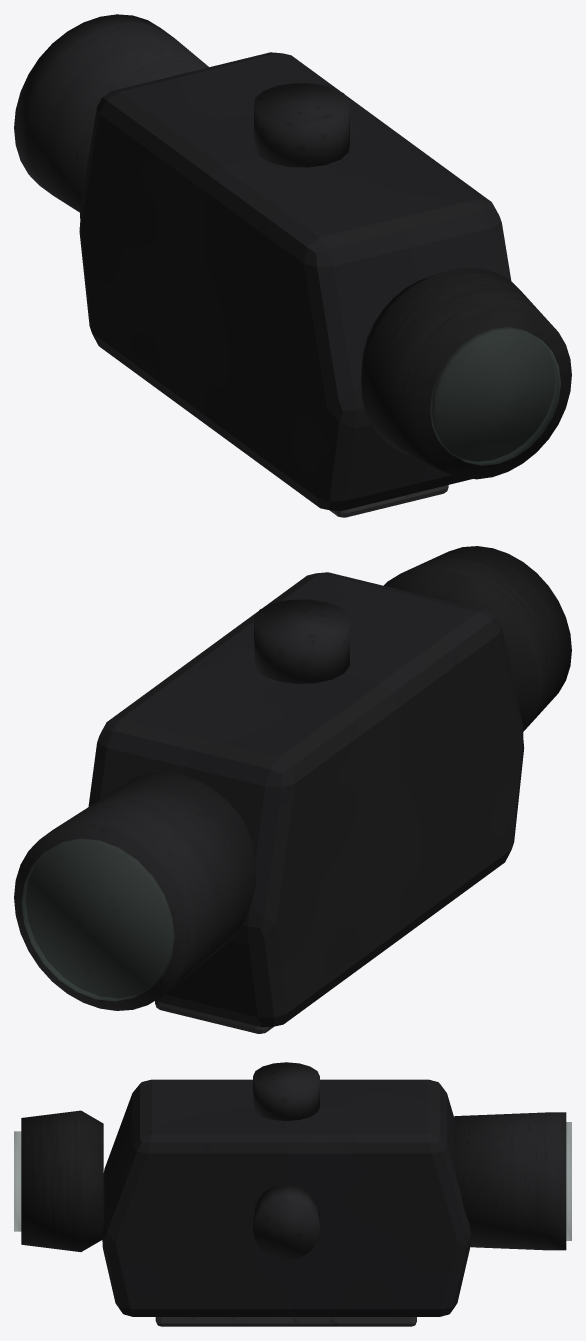
Rendered from scope_3x.glb.
3 renders of one model, top to bottom at view 1: azimuth 30°, elevation 25°; view 2: azimuth 150°, elevation 25°; view 3: azimuth 270°, elevation 25°, orthographic. The views are drawn at different scales.
Visible parts, largest first — view 1: body, eye, obj, lens_r, knob, base; view 2: body, obj, lens_f, eye, knob, base; view 3: body, obj, eye, knob2, knob, base, lens_r, lens_f.
Part boxes in pixels (left/top/right/bottom): body: left=79, top=52, right=511, bottom=510; eye: left=361, top=267, right=571, bottom=479; obj: left=14, top=14, right=208, bottom=212; lens_r: left=430, top=327, right=560, bottom=465; knob: left=254, top=83, right=349, bottom=167; base: left=330, top=485, right=448, bottom=517; body: left=88, top=572, right=524, bottom=1027; obj: left=14, top=772, right=255, bottom=1010; lens_f: left=21, top=838, right=174, bottom=1001; eye: left=383, top=546, right=571, bottom=731; knob: left=254, top=599, right=349, bottom=683; base: left=155, top=1001, right=273, bottom=1033; body: left=102, top=1079, right=470, bottom=1316; obj: left=454, top=1112, right=566, bottom=1250; eye: left=21, top=1110, right=103, bottom=1251; knob2: left=253, top=1184, right=319, bottom=1260; knob: left=253, top=1062, right=319, bottom=1120; base: left=155, top=1317, right=416, bottom=1326; lens_r: left=14, top=1131, right=21, bottom=1231; lens_f: left=566, top=1122, right=571, bottom=1240.
Bounding box in the file's own units: 0.052 × 0.069 × 0.1495.
Materials: 5 (4 with a texture image).
